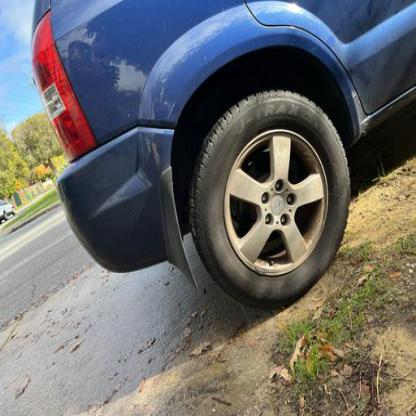Tire: (188, 89, 350, 307)
